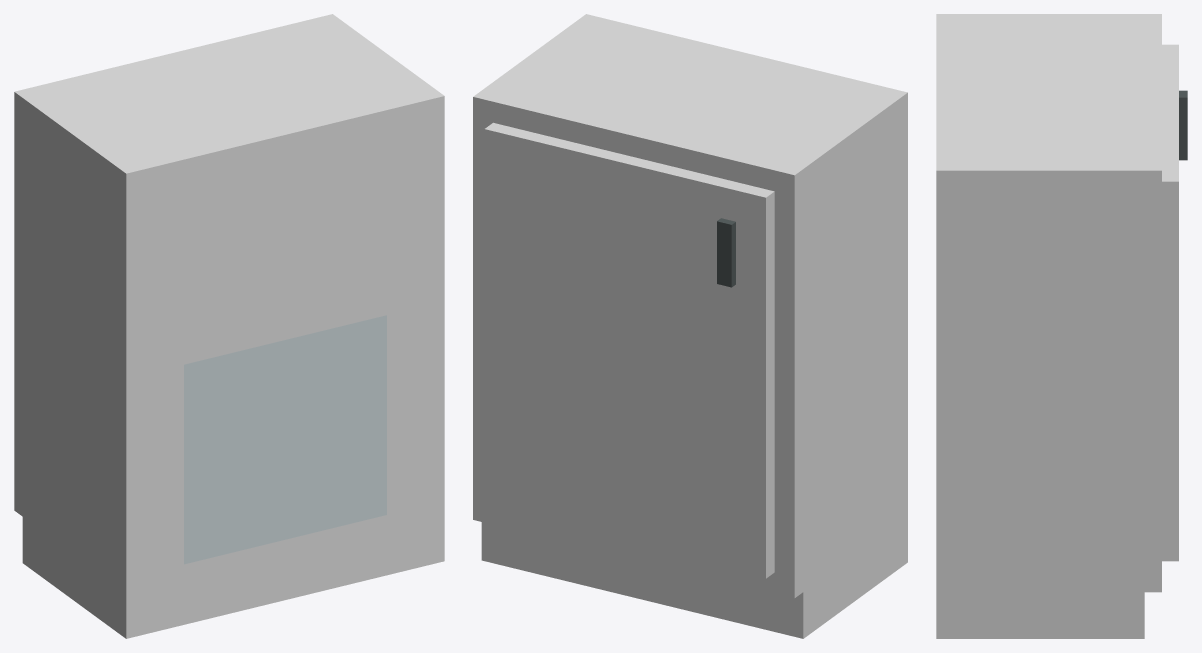
File: Furniture_Fridge_SingleDoor.fbx
The picture shows the model from 3 angles, left to right: view 1: azimuth 30°, elevation 25°; view 2: azimuth 150°, elevation 25°; view 3: azimuth 270°, elevation 25°; orthographic projection.
Visible parts, largest first — view 1: kitchenFridgeSmall; view 2: kitchenFridgeSmall; view 3: kitchenFridgeSmall.
Boxes of the visible parts, x1,y1,x2,y2 form: kitchenFridgeSmall: (14, 14, 444, 638); kitchenFridgeSmall: (473, 14, 907, 638); kitchenFridgeSmall: (936, 14, 1187, 638).
Bounding box in the file's own units: 75.84 × 106 × 51.49.
